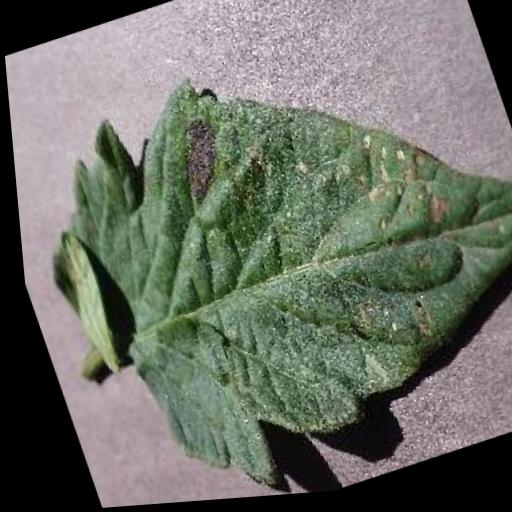Early Blight: (1, 0, 512, 512)
